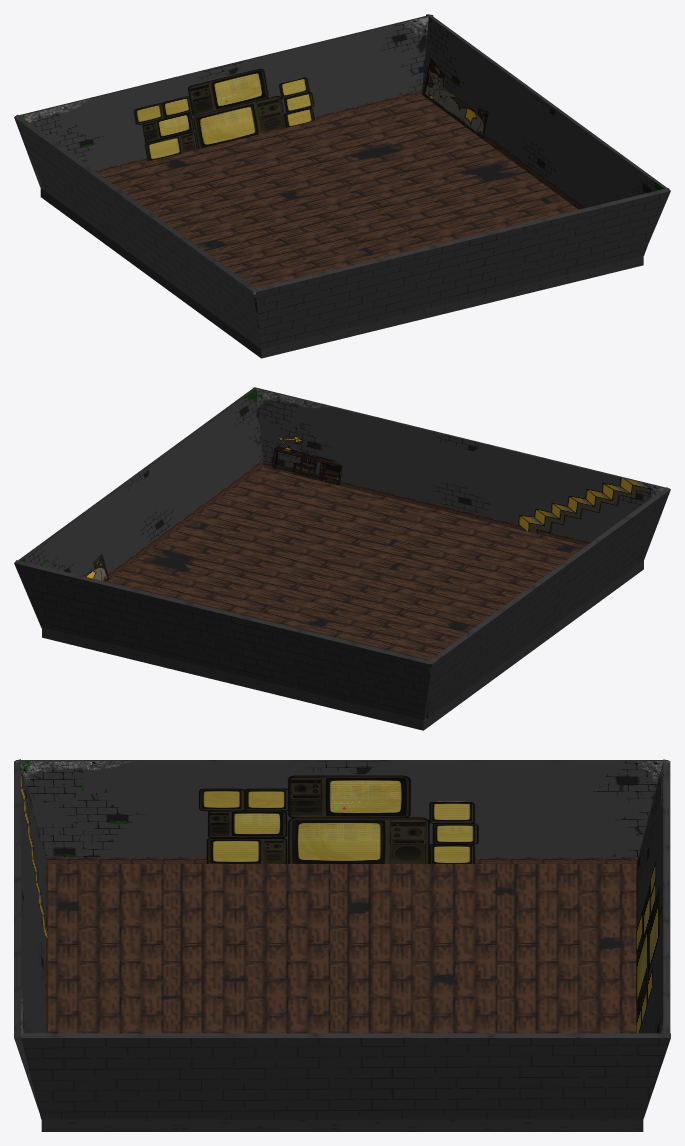
The model's file is Cenário Avarento 001.fbx.
3 renders of one model, top to bottom at view 1: azimuth 30°, elevation 25°; view 2: azimuth 150°, elevation 25°; view 3: azimuth 270°, elevation 25°, orthographic. The views are drawn at different scales.
Visible parts, largest first — view 1: Piso, Parede, Parede.001, Parede.002, Parede.003; view 2: Piso, Parede.001, Parede, Parede.002, Parede.003; view 3: Piso, Parede.003, Parede.002, Parede.001, Parede.
Part boxes in pixels (<box>): Piso: <box>40,95,643,358</box>; Parede: <box>15,15,433,188</box>; Parede.001: <box>252,188,670,348</box>; Parede.002: <box>421,14,666,255</box>; Parede.003: <box>14,114,260,348</box>; Piso: <box>42,467,643,730</box>; Parede.001: <box>252,387,668,560</box>; Parede: <box>14,560,432,720</box>; Parede.002: <box>14,389,263,628</box>; Parede.003: <box>423,487,670,721</box>; Piso: <box>41,864,643,1131</box>; Parede.003: <box>15,760,669,863</box>; Parede.002: <box>20,1033,670,1119</box>; Parede.001: <box>14,759,48,1118</box>; Parede: <box>636,759,670,1037</box>.
Size of the model in its own units: 1858 by 335 by 1856.
